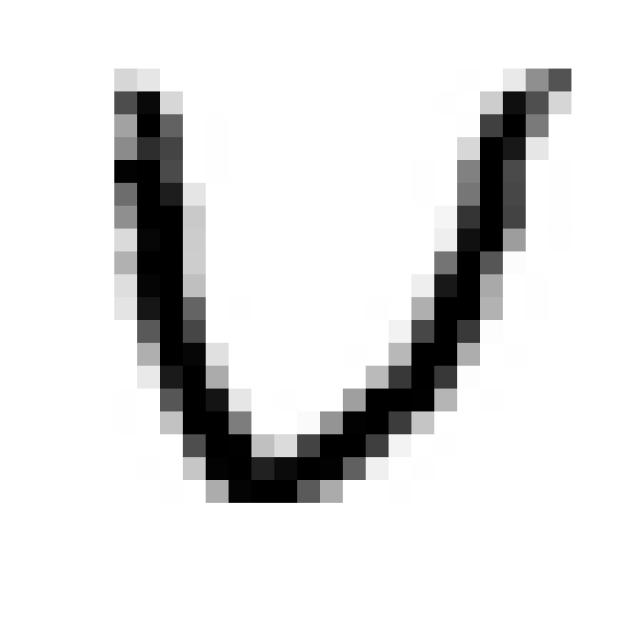7 -seven-: (89, 48, 591, 522)
